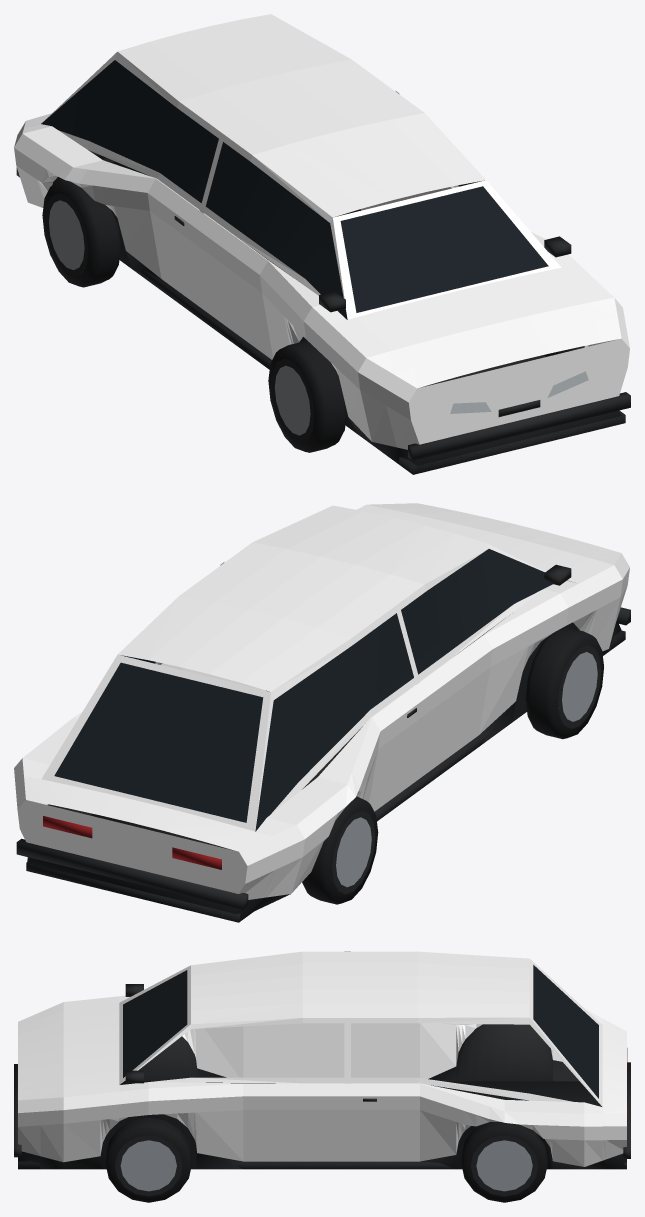
The model's file is vallon_braseiro.glb.
3 renders of one model, top to bottom at view 1: azimuth 30°, elevation 25°; view 2: azimuth 150°, elevation 25°; view 3: azimuth 270°, elevation 25°, orthographic. The views are drawn at different scales.
Parts seen in each view (by area): view 1: Body_Paint, Body_Details, Mount_FrontLeft_Wheel_Details, Mount_RearLeft_Wheel_Details; view 2: Body_Paint, Body_Details, Mount_FrontLeft_Wheel_Details, Mount_RearLeft_Wheel_Details; view 3: Body_Paint, Body_Details, Mount_FrontRight_Wheel_Details, Mount_RearRight_Wheel_Details.
Boxes of the visible parts, <box> form: Body_Paint: <box>14,14,629,449</box>; Body_Details: <box>16,60,630,474</box>; Mount_FrontLeft_Wheel_Details: <box>268,341,346,452</box>; Mount_RearLeft_Wheel_Details: <box>42,179,120,287</box>; Body_Paint: <box>14,503,629,899</box>; Body_Details: <box>16,549,630,922</box>; Mount_FrontLeft_Wheel_Details: <box>525,627,603,739</box>; Mount_RearLeft_Wheel_Details: <box>302,796,378,904</box>; Body_Paint: <box>18,951,626,1166</box>; Body_Details: <box>14,965,630,1169</box>; Mount_FrontRight_Wheel_Details: <box>105,1117,192,1202</box>; Mount_RearRight_Wheel_Details: <box>461,1122,547,1202</box>.
Bounding box in the file's own units: 1.89 × 1.32 × 4.41.
Materials: 2 (1 with a texture image).
